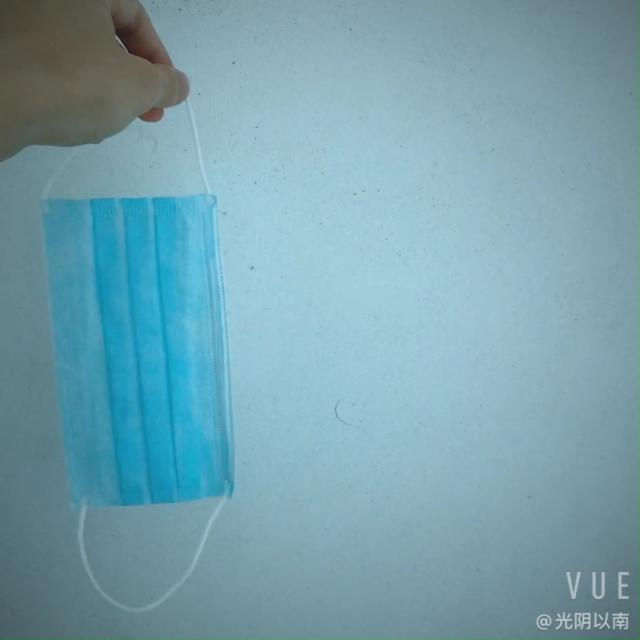non-organic waste: (21, 184, 233, 526)
